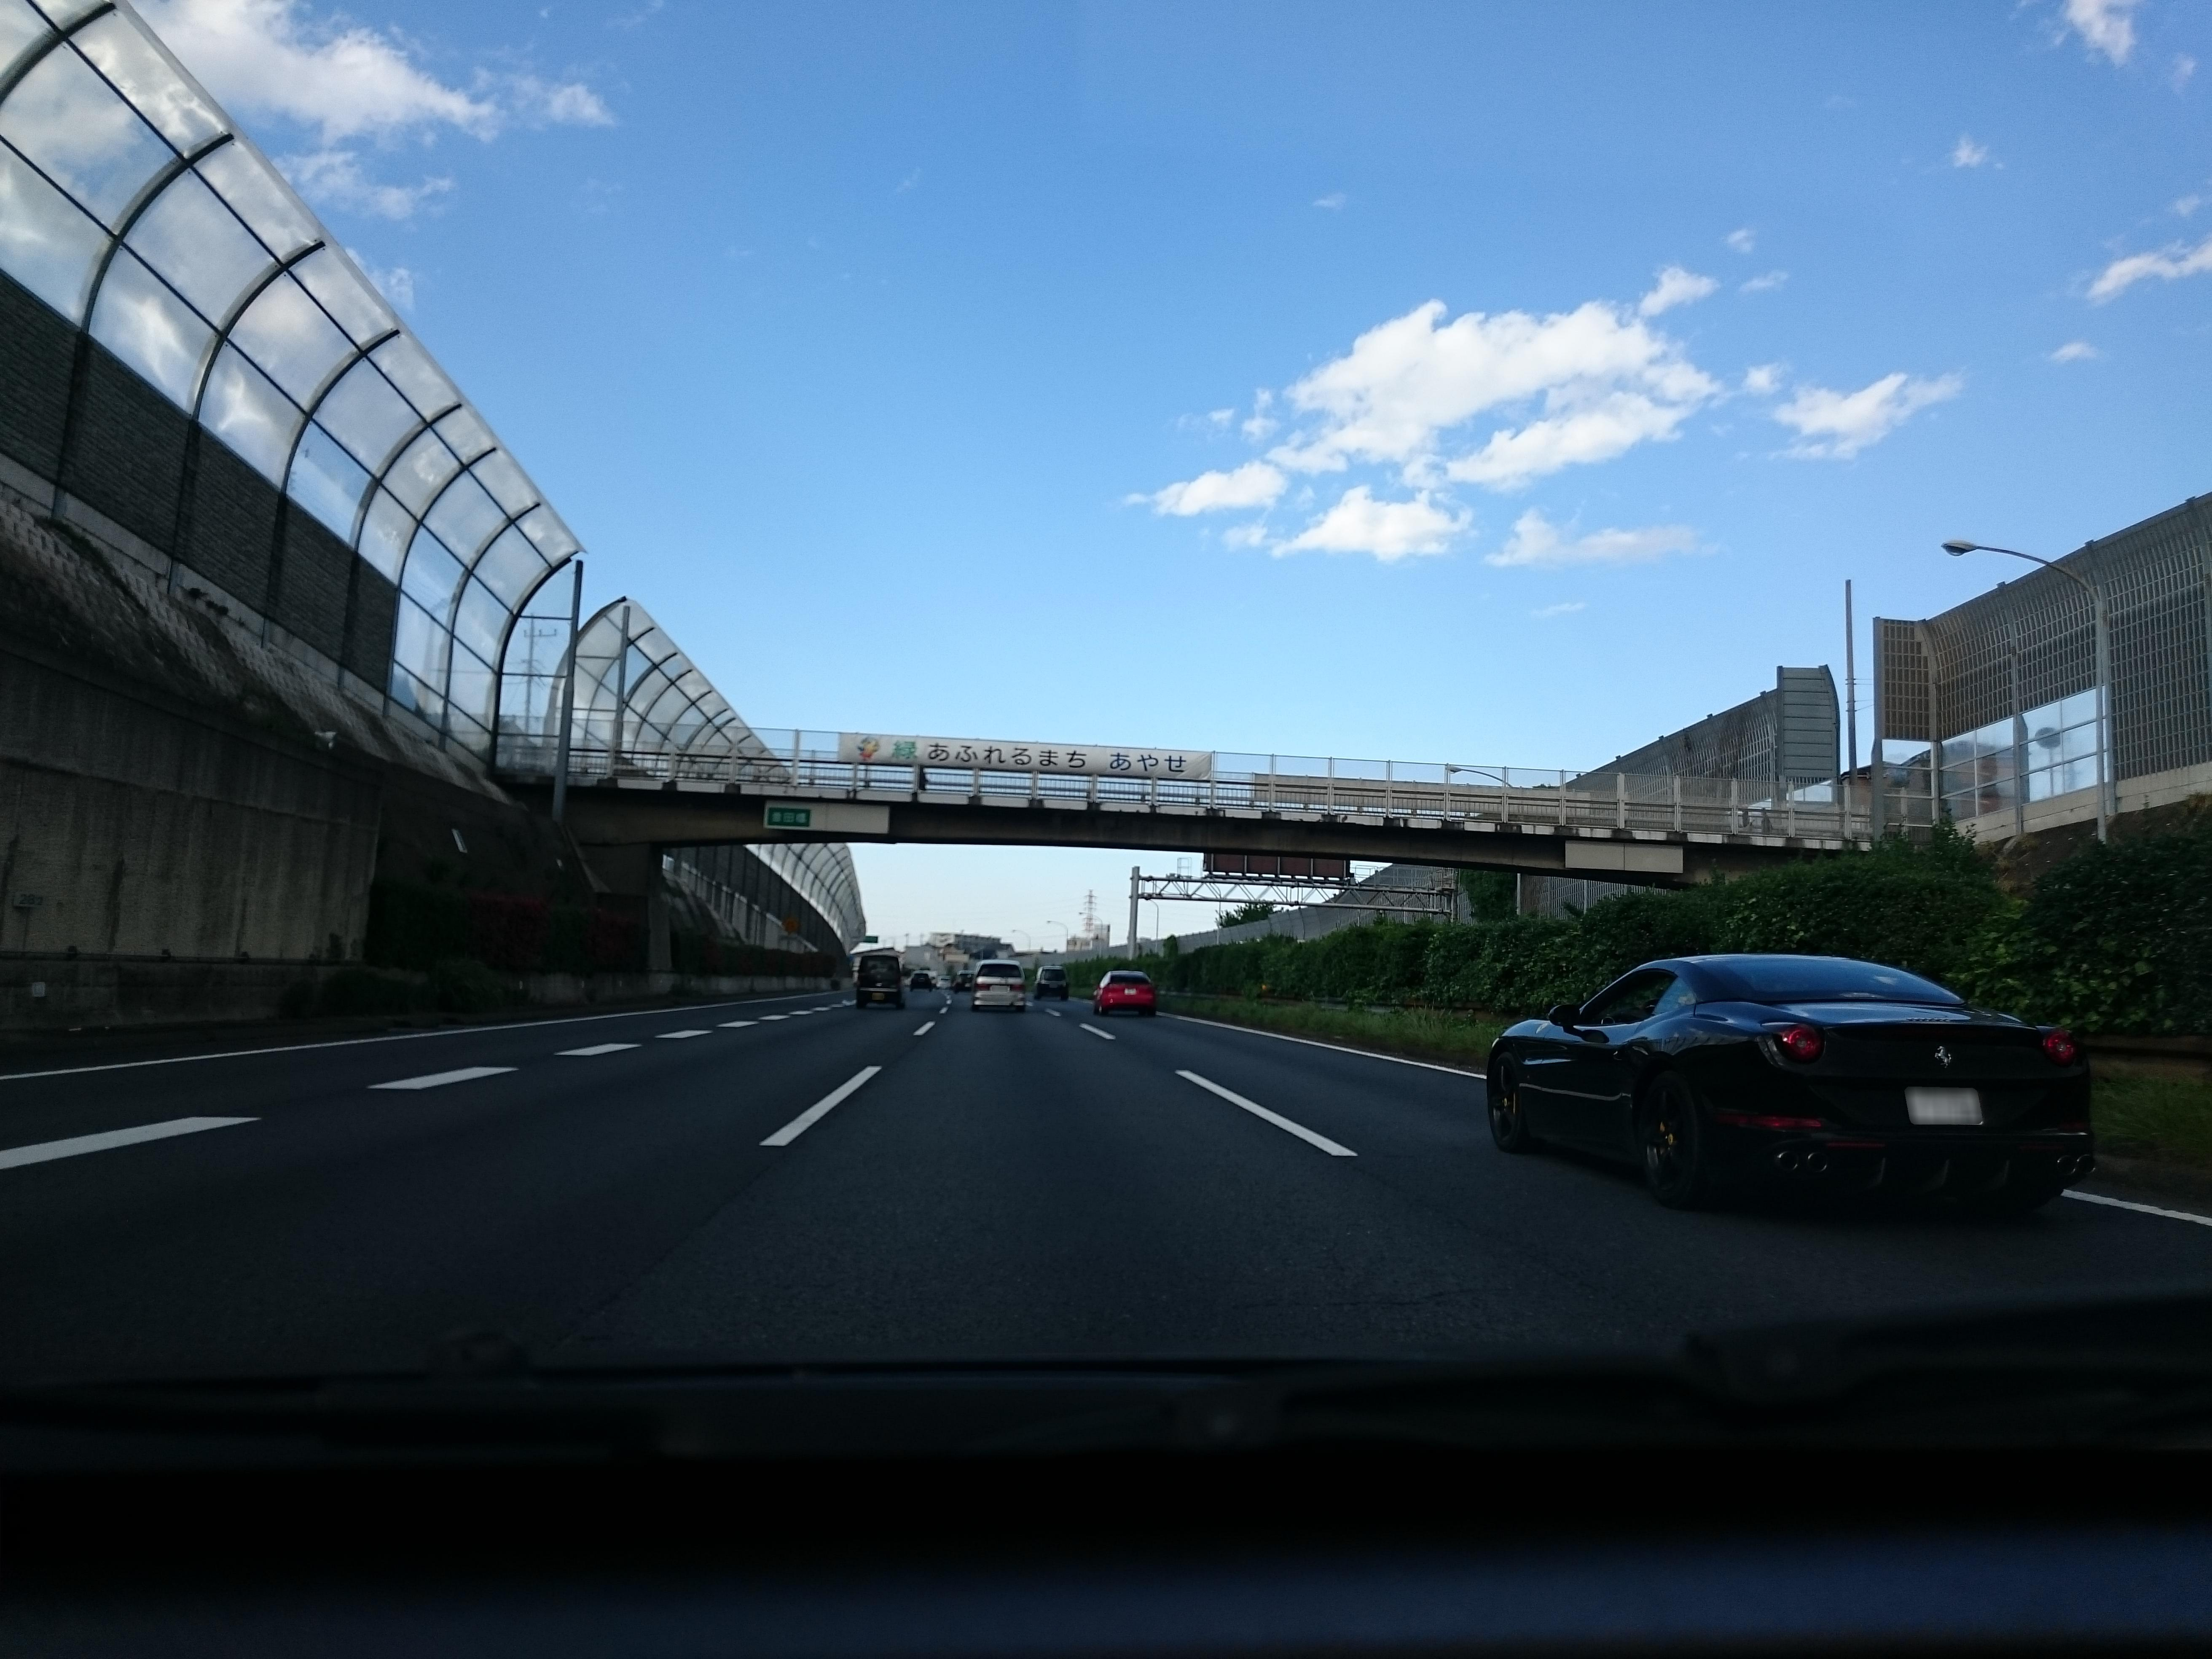vinyl banner: (801, 701, 1226, 782)
